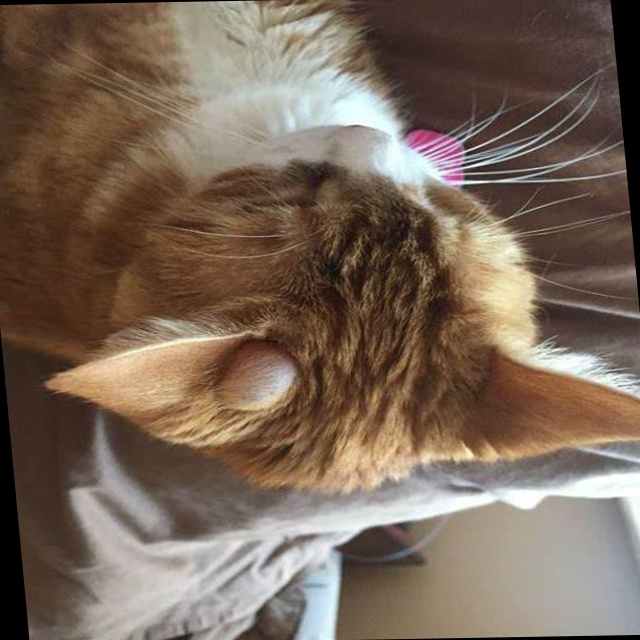lump_and_bump: (220, 342, 299, 415)
